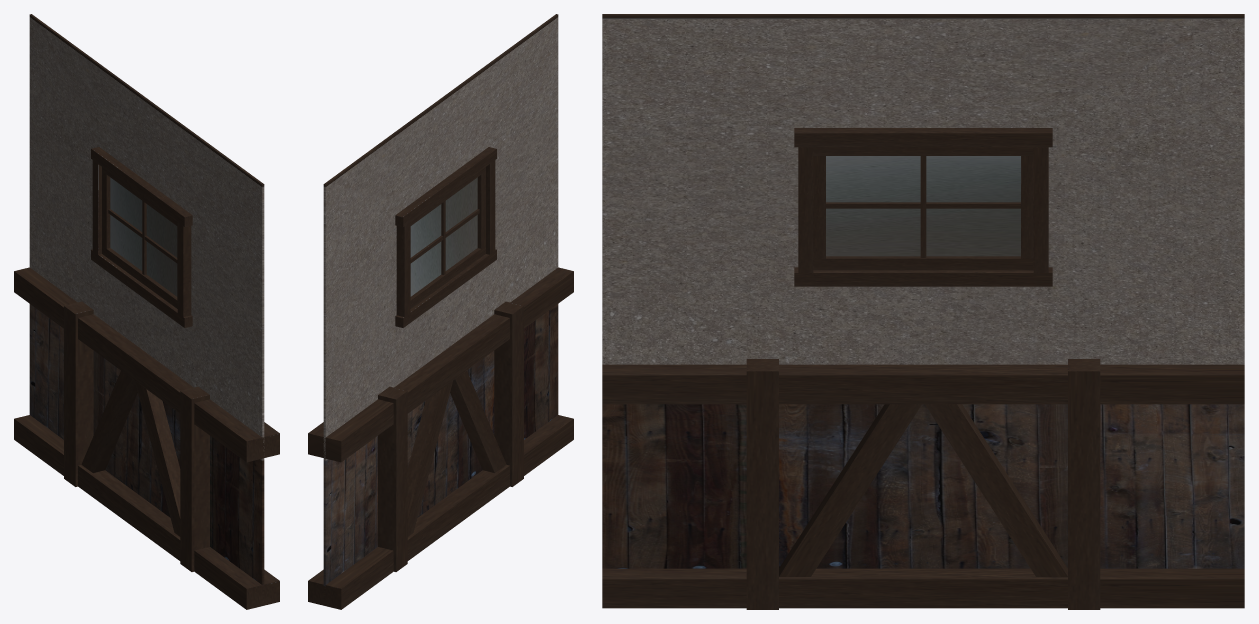
The model's file is OutdoorArchitecture_BasicWall03_Window03_NotEdges_BShortt.fbx.
3 renders of one model, left to right at view 1: azimuth 30°, elevation 25°; view 2: azimuth 150°, elevation 25°; view 3: azimuth 270°, elevation 25°, orthographic. The views are drawn at different scales.
Visible parts, largest first — view 1: OutdoorArchitecture_BasicWall03_Window03_NoEdges_BShortt; view 2: OutdoorArchitecture_BasicWall03_Window03_NoEdges_BShortt; view 3: OutdoorArchitecture_BasicWall03_Window03_NoEdges_BShortt.
Boxes of the visible parts, bbox=[...] form: OutdoorArchitecture_BasicWall03_Window03_NoEdges_BShortt: bbox=[14, 14, 279, 609]; OutdoorArchitecture_BasicWall03_Window03_NoEdges_BShortt: bbox=[308, 14, 573, 609]; OutdoorArchitecture_BasicWall03_Window03_NoEdges_BShortt: bbox=[602, 14, 1244, 609].
Size of the model in its own units: 28.5 by 300 by 300.
